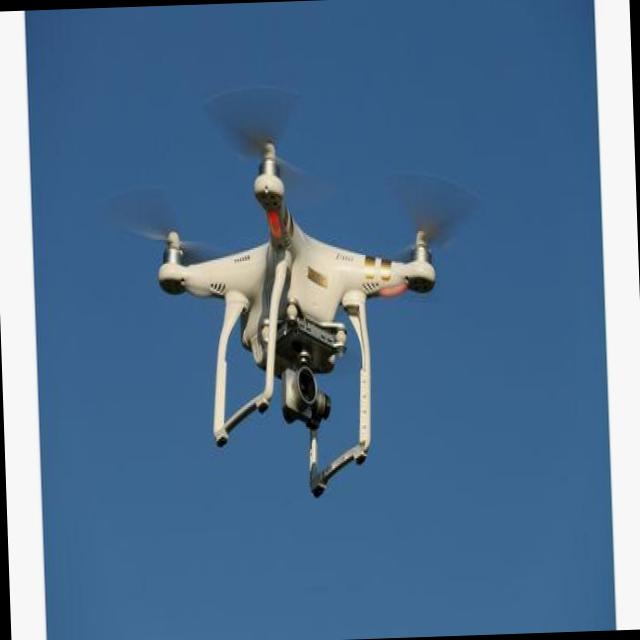drone: (151, 130, 456, 506)
